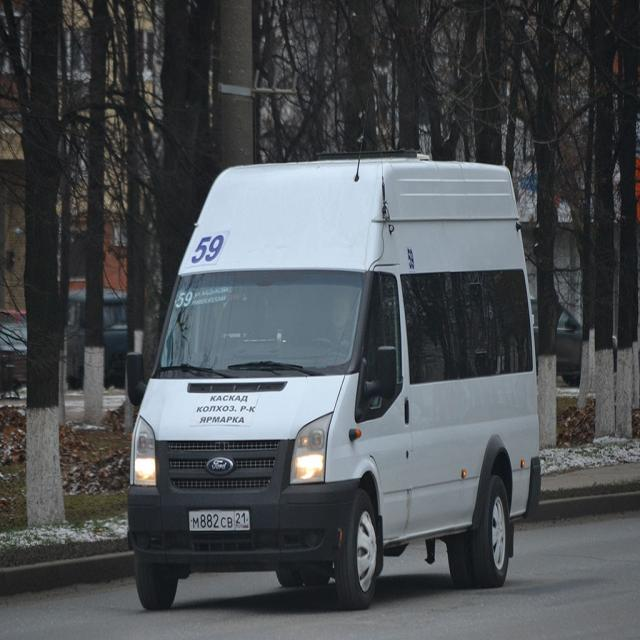number-of-bus: (194, 228, 236, 267), (176, 290, 193, 312)
